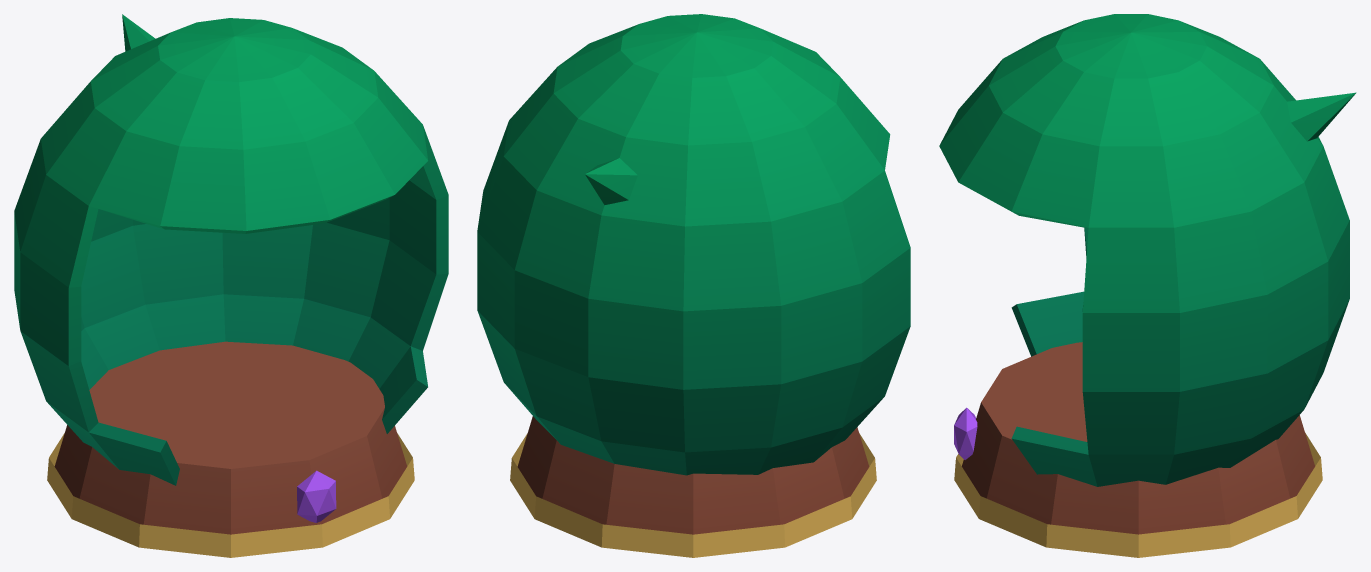
Rendered from hunter_helm_t3.glb.
The picture shows the model from 3 angles, left to right: view 1: azimuth 30°, elevation 25°; view 2: azimuth 150°, elevation 25°; view 3: azimuth 270°, elevation 25°; orthographic projection.
Parts seen in each view (by area): view 1: hunter_helm_t3__head; view 2: hunter_helm_t3__head; view 3: hunter_helm_t3__head.
Boxes of the visible parts, x1=… form: hunter_helm_t3__head: x1=14, y1=14, x2=448, y2=557; hunter_helm_t3__head: x1=477, y1=14, x2=910, y2=557; hunter_helm_t3__head: x1=939, y1=14, x2=1356, y2=557.
Size of the model in its own units: 1.23 by 1.38 by 1.17.
2 materials, 1 textured.
